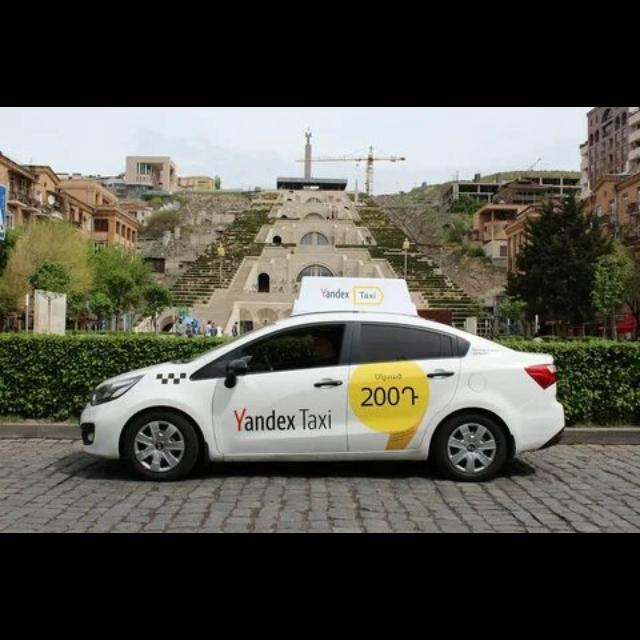taxi: (80, 275, 566, 484)
